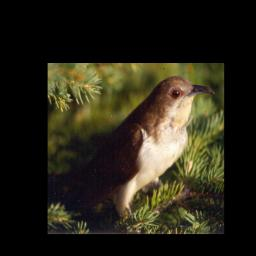Cuckoo: (55, 75, 215, 220)
